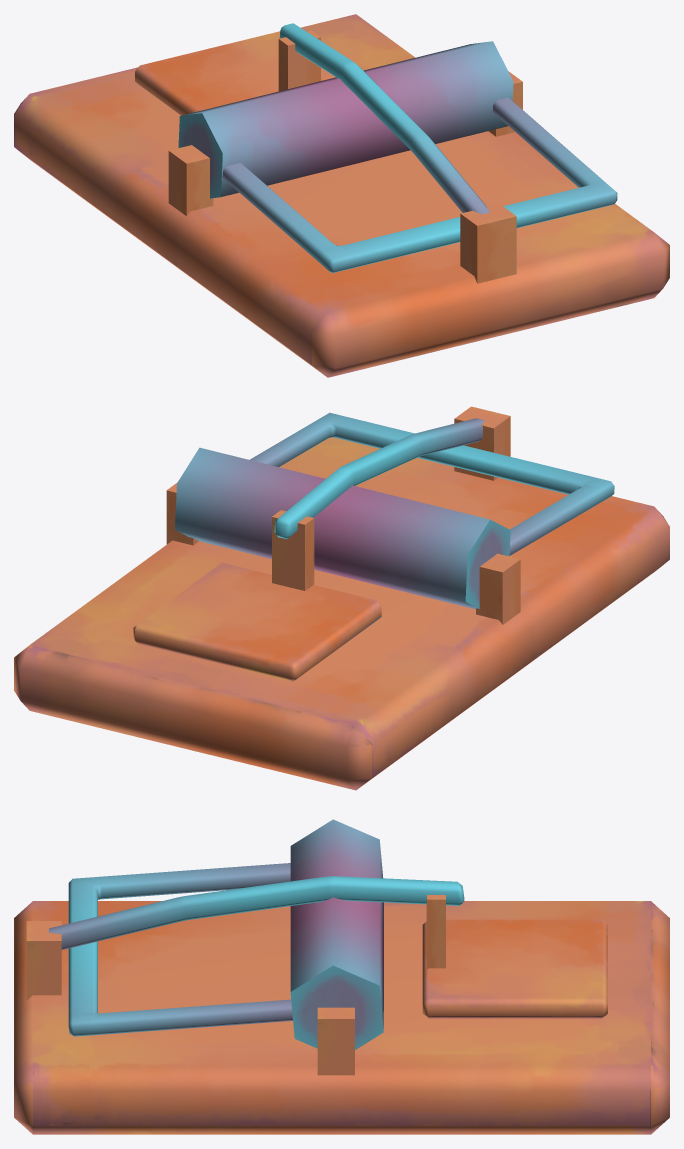
Rendered from MouseTrap.obj.
3 renders of one model, top to bottom at view 1: azimuth 30°, elevation 25°; view 2: azimuth 150°, elevation 25°; view 3: azimuth 270°, elevation 25°, orthographic. The views are drawn at different scales.
Visible parts, largest first — view 1: MouseTrap; view 2: MouseTrap; view 3: MouseTrap.
Part boxes in pixels (x1,y1,x2,y2): MouseTrap: [14, 14, 669, 377]; MouseTrap: [14, 406, 669, 790]; MouseTrap: [14, 819, 669, 1134].
Size of the model in its own units: 1.29 by 0.5811 by 1.97.
